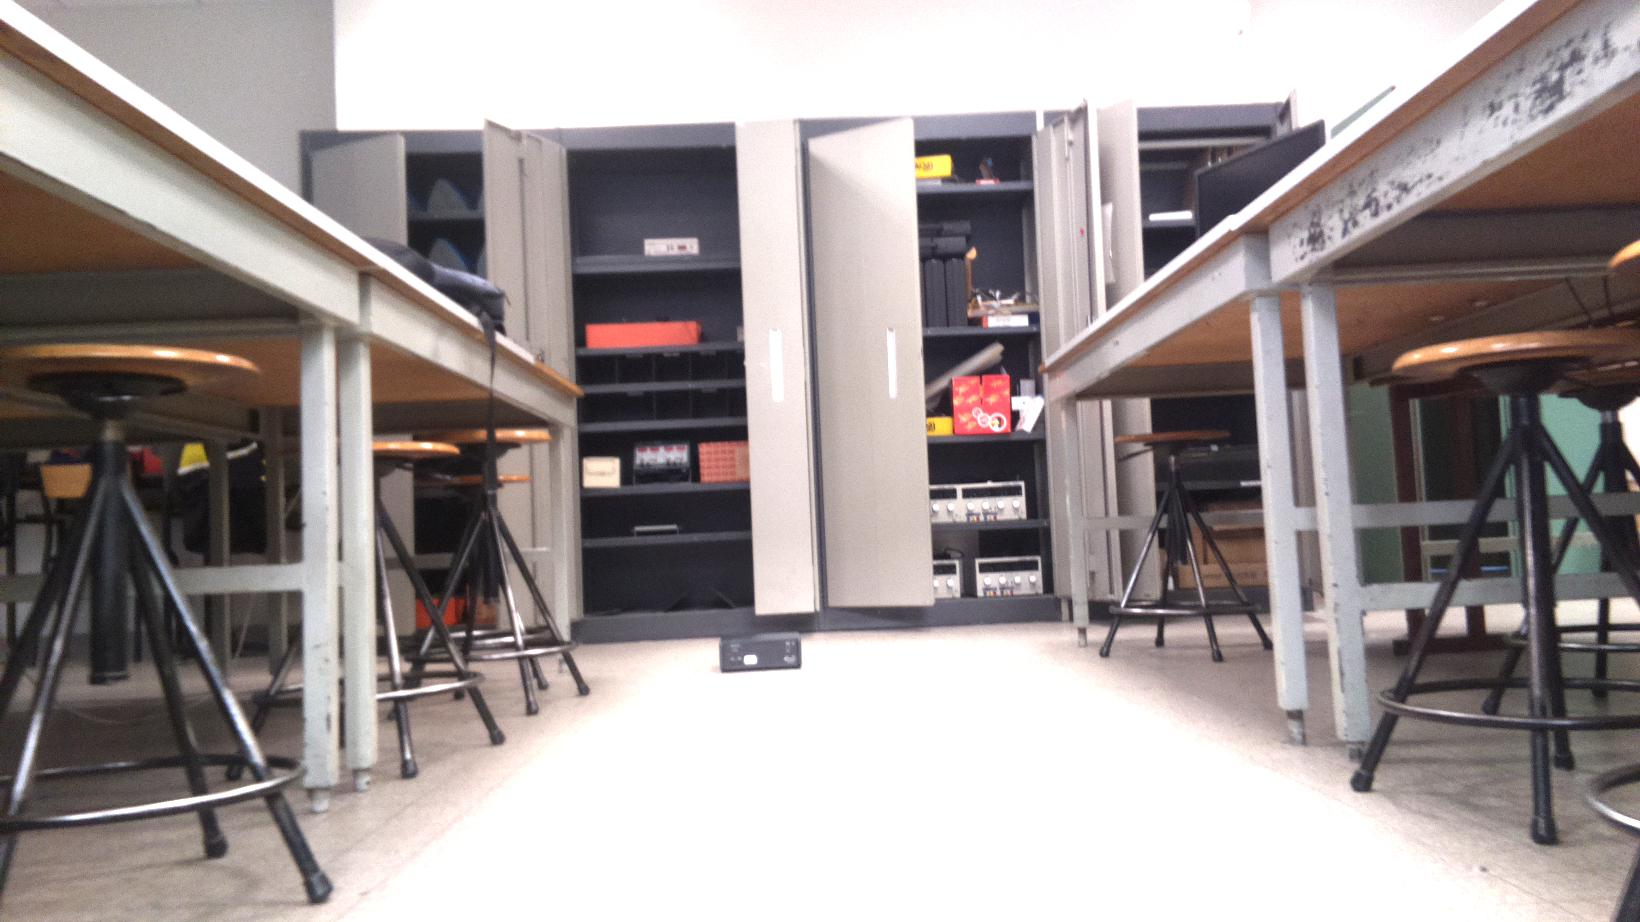medium: (717, 632, 802, 669)
